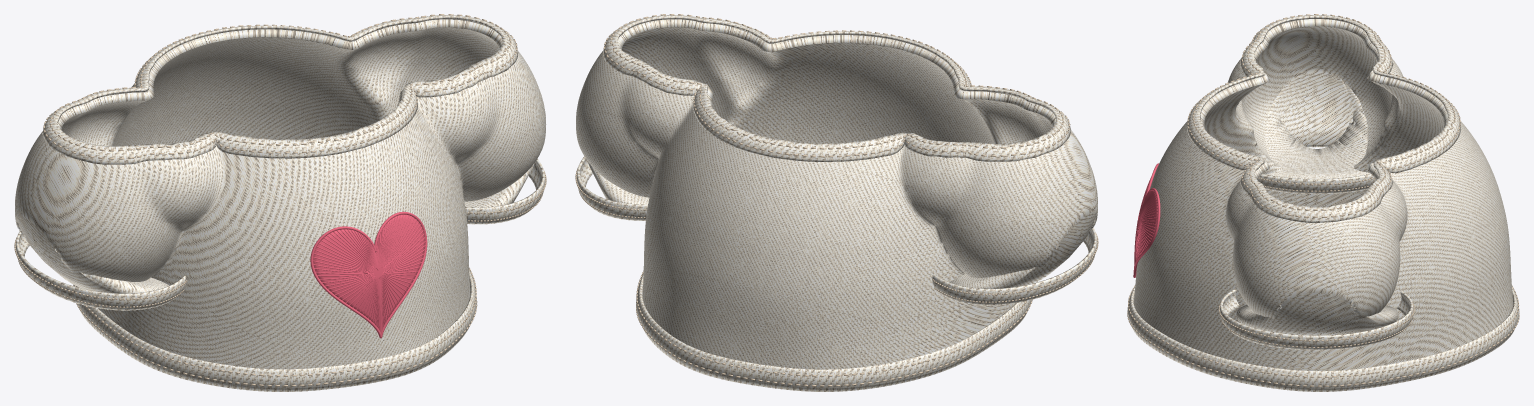
The model's file is restart_shirt_love_penguin.glb.
The picture shows the model from 3 angles, left to right: view 1: azimuth 30°, elevation 25°; view 2: azimuth 150°, elevation 25°; view 3: azimuth 270°, elevation 25°; orthographic projection. The views are drawn at different scales.
Parts seen in each view (by area): view 1: Patrón envolvente · Camiseta abrazo nueva; view 2: Patrón envolvente · Camiseta abrazo nueva; view 3: Patrón envolvente · Camiseta abrazo nueva.
Boxes of the visible parts, box(x1,y1,x2,y2) form: Patrón envolvente · Camiseta abrazo nueva: box(14, 14, 546, 391); Patrón envolvente · Camiseta abrazo nueva: box(575, 14, 1098, 391); Patrón envolvente · Camiseta abrazo nueva: box(1127, 14, 1519, 391).
Size of the model in its own units: 0.7107 by 0.3065 by 0.529.
3 materials, 1 textured.
